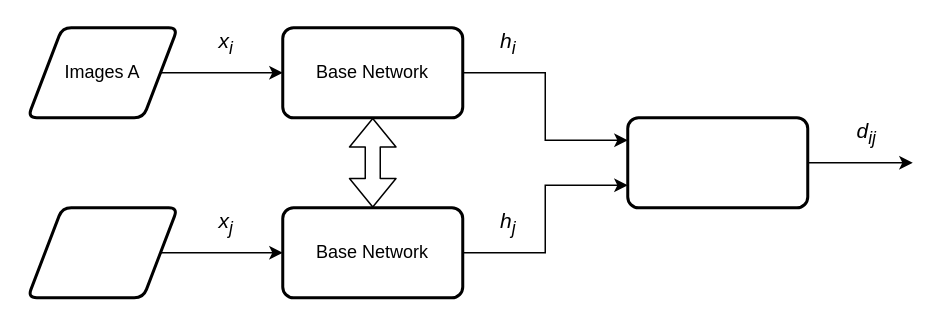
The diagram is 951 pixels wide and 324 high, and some of its shapes have lost their labels. The shapes that lost their labels are listed below. From the top down, each one's centre as x and y in pixels, then its label:
the point at 717,162: Distance Measure
the point at 102,252: Images B
